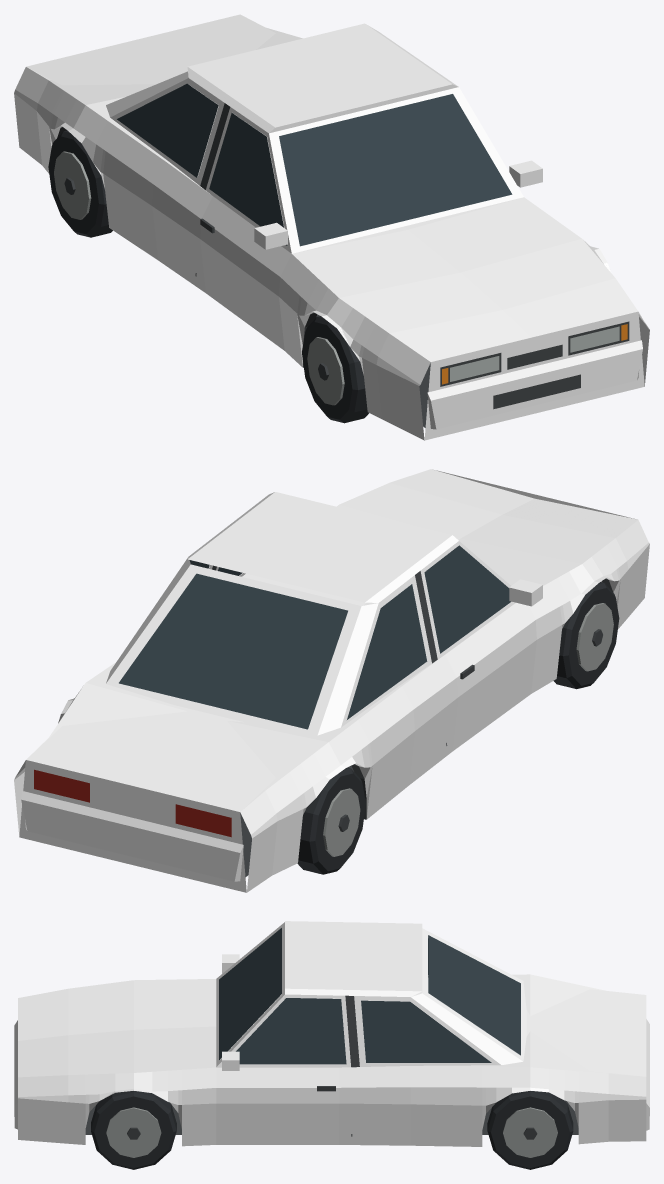
Rendered from kanaya_yozora_s_98.glb.
3 renders of one model, top to bottom at view 1: azimuth 30°, elevation 25°; view 2: azimuth 150°, elevation 25°; view 3: azimuth 270°, elevation 25°, orthographic. The views are drawn at different scales.
Parts seen in each view (by area): view 1: kanaya_yozora_s_98; view 2: kanaya_yozora_s_98; view 3: kanaya_yozora_s_98.
Boxes of the visible parts, x1,y1,x2,y2 form: kanaya_yozora_s_98: [14, 14, 649, 440]; kanaya_yozora_s_98: [14, 469, 649, 892]; kanaya_yozora_s_98: [14, 921, 649, 1169].
Size of the model in its own units: 1.72 by 1.25 by 4.36.
8 materials, 1 textured.
